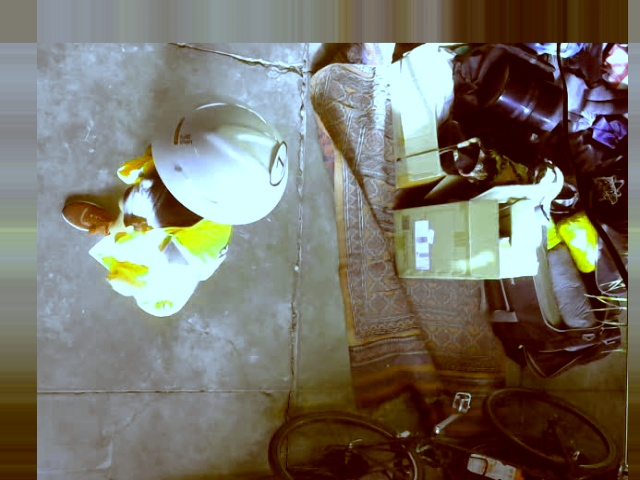one: (268, 142, 286, 187)
